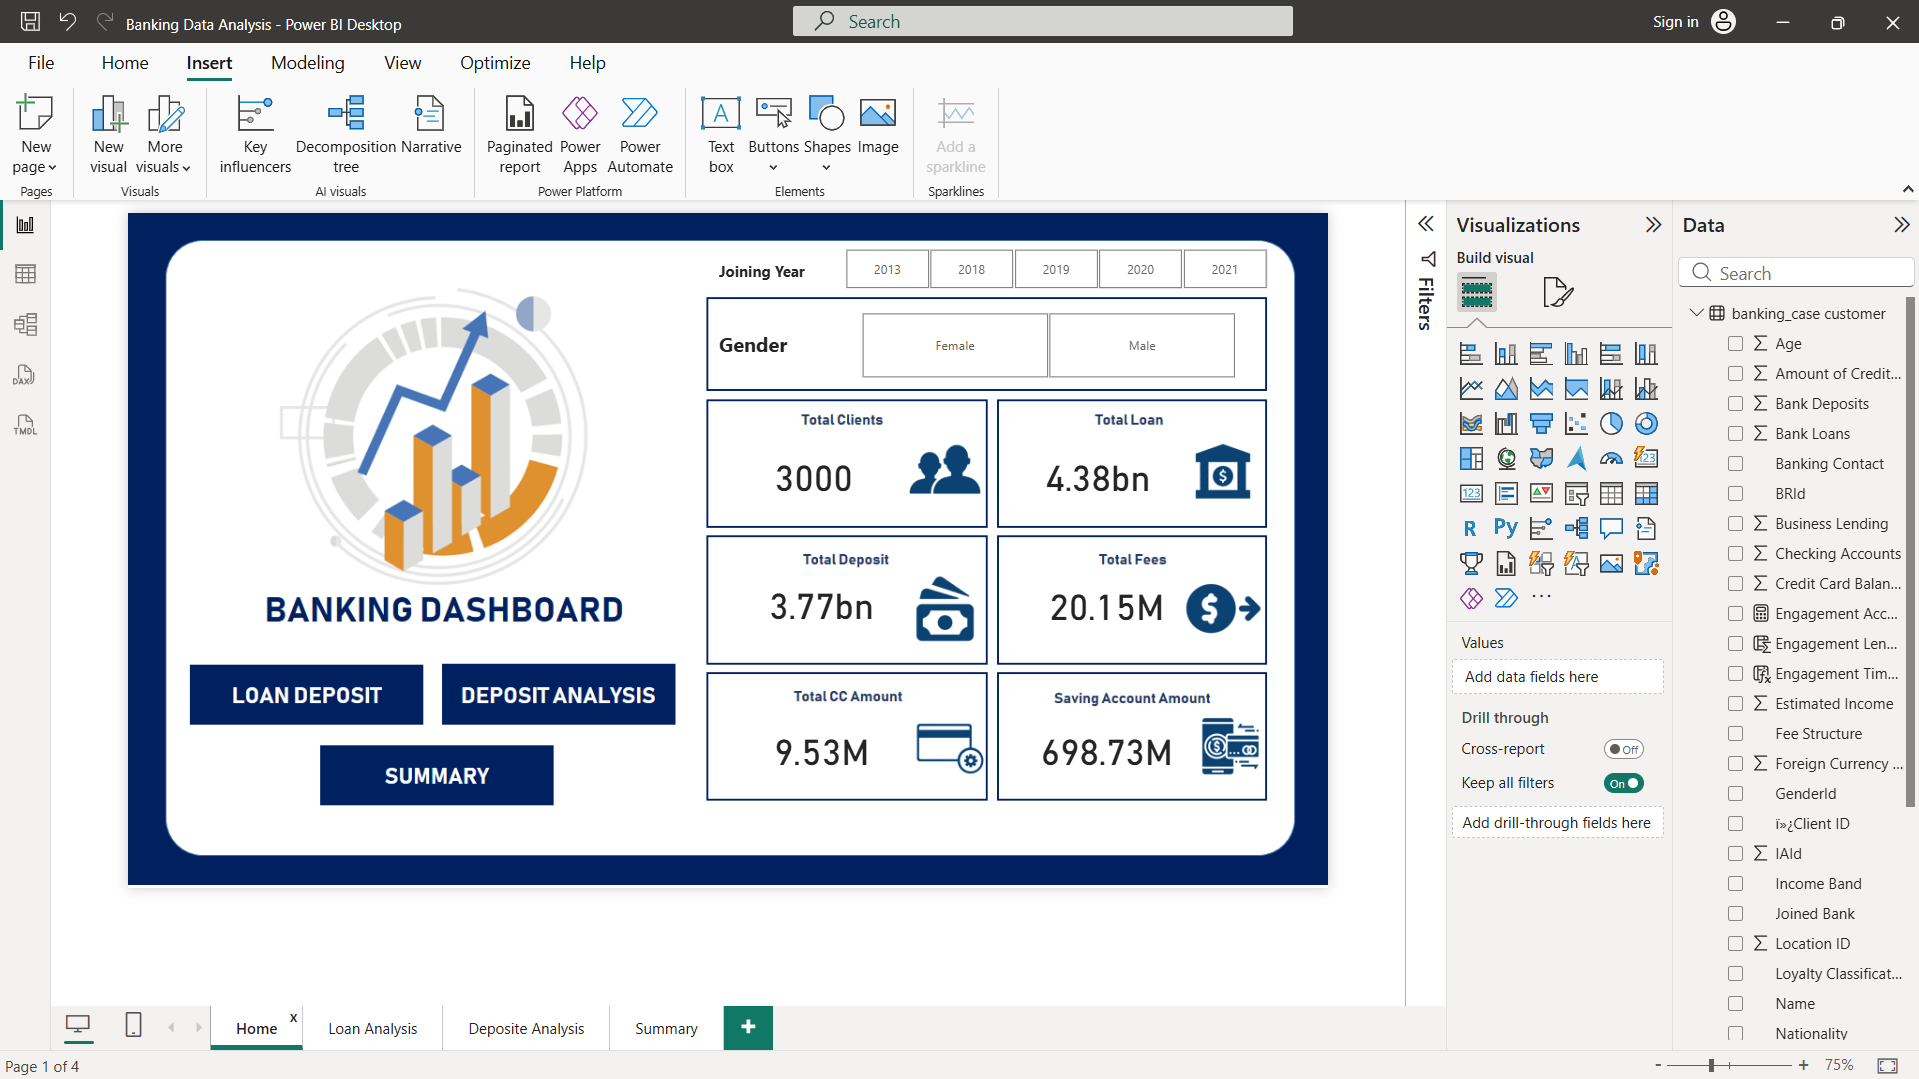

What the dashboard file says about the page in this screenshot:
{"tool":"powerbi","page":{"name":"Home","canvas":[1280,720],"ordinal":0},"visuals":[{"type":"card","fields":{"Values":["CountNonNull(banking_case customer.Name)"]},"box":[640,230,183.3,98.3],"z":0},{"type":"slicer","fields":{"Values":["banking_case customer.GenderId"]},"box":[757.5,100,447.5,82.5],"z":1000},{"type":"textbox","box":[625,120,132.5,45],"z":2000},{"type":"card","fields":{"Values":["banking_case customer.Total Loan"]},"box":[943.3,230,181.7,98.3],"z":3000},{"type":"card","fields":{"Values":["banking_case customer.Total Deposit"]},"box":[640,360,200,112.5],"z":4000},{"type":"slicer","fields":{"Values":["banking_case customer.Year of Joining"]},"box":[740,31.7,498.3,55],"z":5000},{"type":"textbox","box":[625,45,101.7,31.7],"z":6000},{"type":"card","fields":{"Values":["banking_case customer.Total CC Amount"]},"box":[640,515,200,113.3],"z":7000},{"type":"card","fields":{"Values":["banking_case customer.Saving Account Amount"]},"box":[943.3,515,200,113.3],"z":8000},{"type":"card","fields":{"Values":["banking_case customer.Total Fees"]},"box":[943.3,360,200,113.3],"z":9000},{"type":"actionButton","box":[68.3,486.7,246.7,58.3],"z":10000},{"type":"actionButton","box":[331.7,486.7,256.7,58.3],"z":11000},{"type":"actionButton","box":[203.3,571.7,256.7,56.7],"z":12000}]}

Visuals, with their boxes on the page's 1280x720 design canvas (x1, y1, x2, y2). These are canvas units, not pixel positions in the 1919x1079 screenshot, which may show the page scaled, cropped or inside an application window:
card - CountNonNull(banking_case customer.Name): BBox(640, 230, 823, 328)
slicer - banking_case customer.GenderId: BBox(758, 100, 1205, 182)
textbox: BBox(625, 120, 758, 165)
card - banking_case customer.Total Loan: BBox(943, 230, 1125, 328)
card - banking_case customer.Total Deposit: BBox(640, 360, 840, 472)
slicer - banking_case customer.Year of Joining: BBox(740, 32, 1238, 87)
textbox: BBox(625, 45, 727, 77)
card - banking_case customer.Total CC Amount: BBox(640, 515, 840, 628)
card - banking_case customer.Saving Account Amount: BBox(943, 515, 1143, 628)
card - banking_case customer.Total Fees: BBox(943, 360, 1143, 473)
actionButton: BBox(68, 487, 315, 545)
actionButton: BBox(332, 487, 588, 545)
actionButton: BBox(203, 572, 460, 628)
